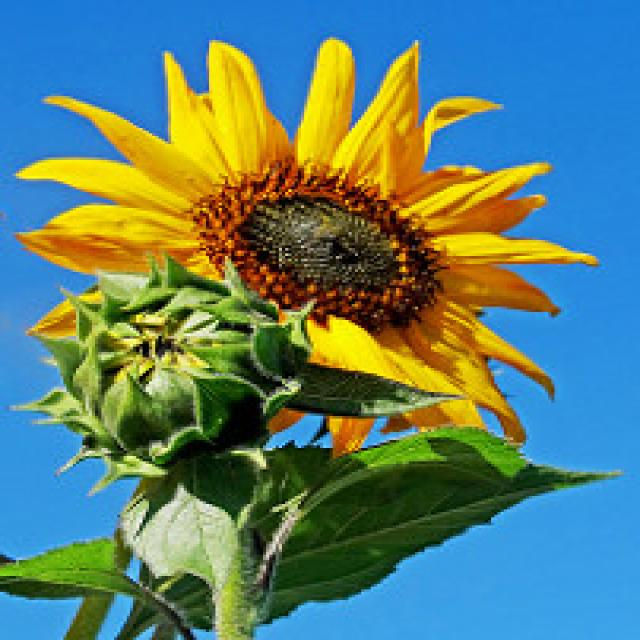sunflower: (9, 25, 612, 476), (32, 252, 323, 471)
